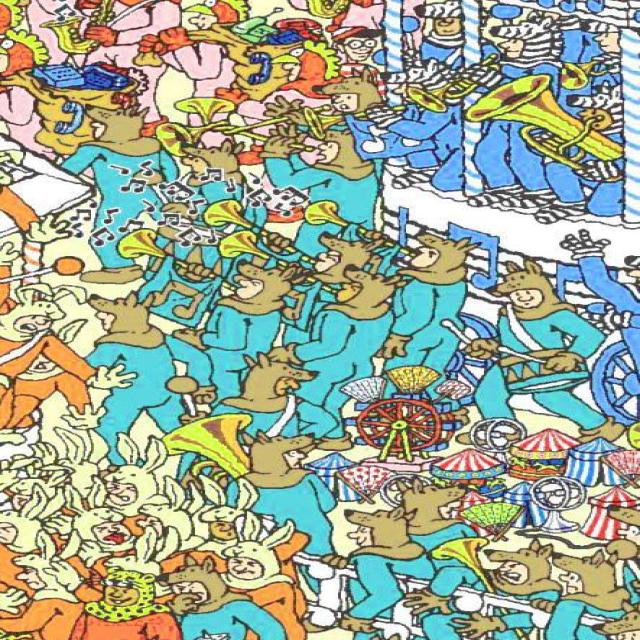waldo: (326, 25, 383, 61)
